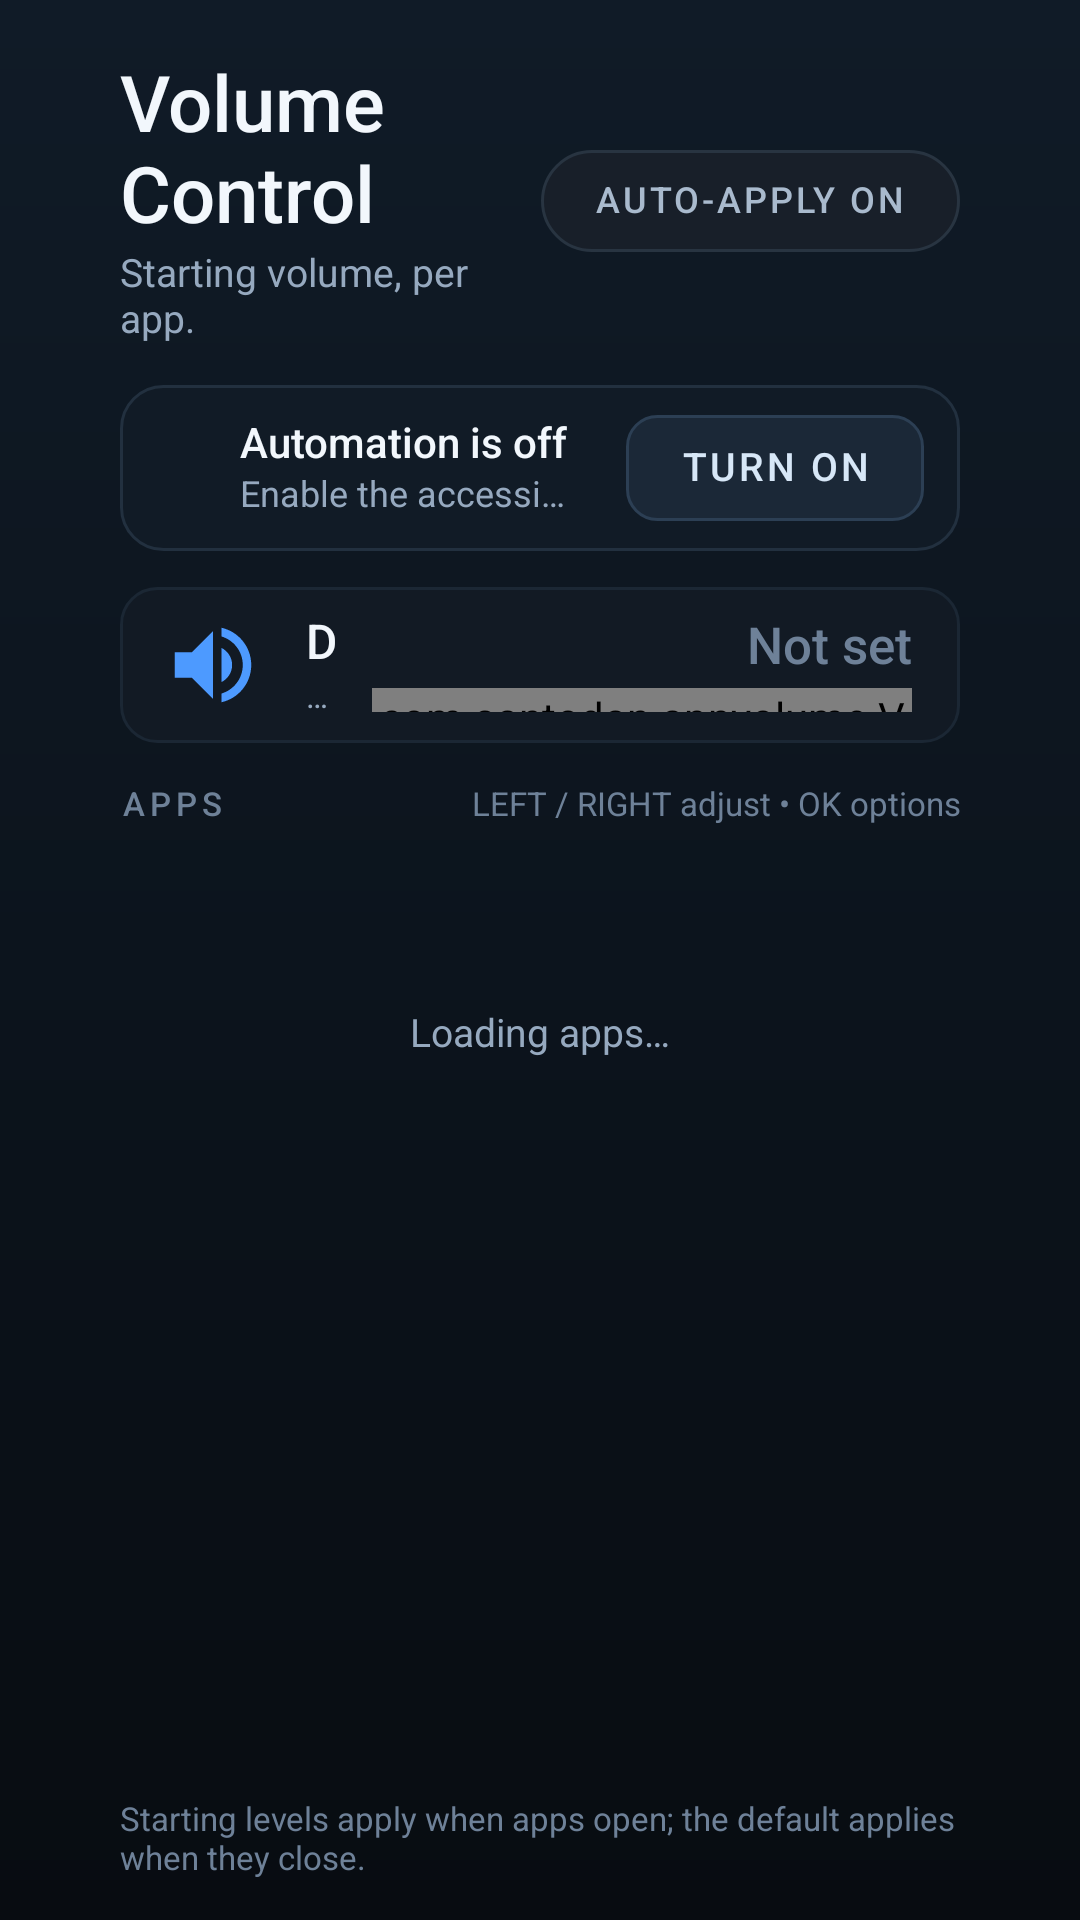

Icon bounding boxes for this 1080×1920 phone screenshot, format (x1, y1, x2, y2):
speaker: (174, 627, 252, 703)
